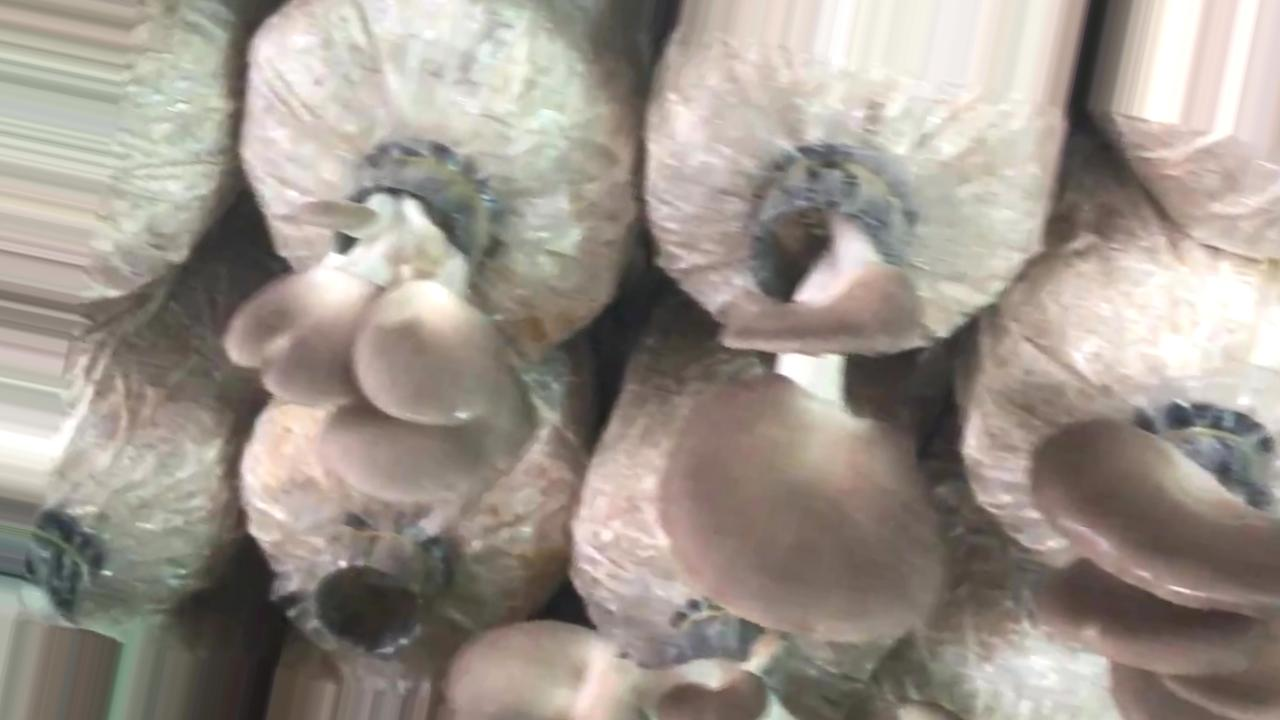nam: (656, 152, 957, 648), (221, 149, 538, 502), (1028, 418, 1280, 719)
